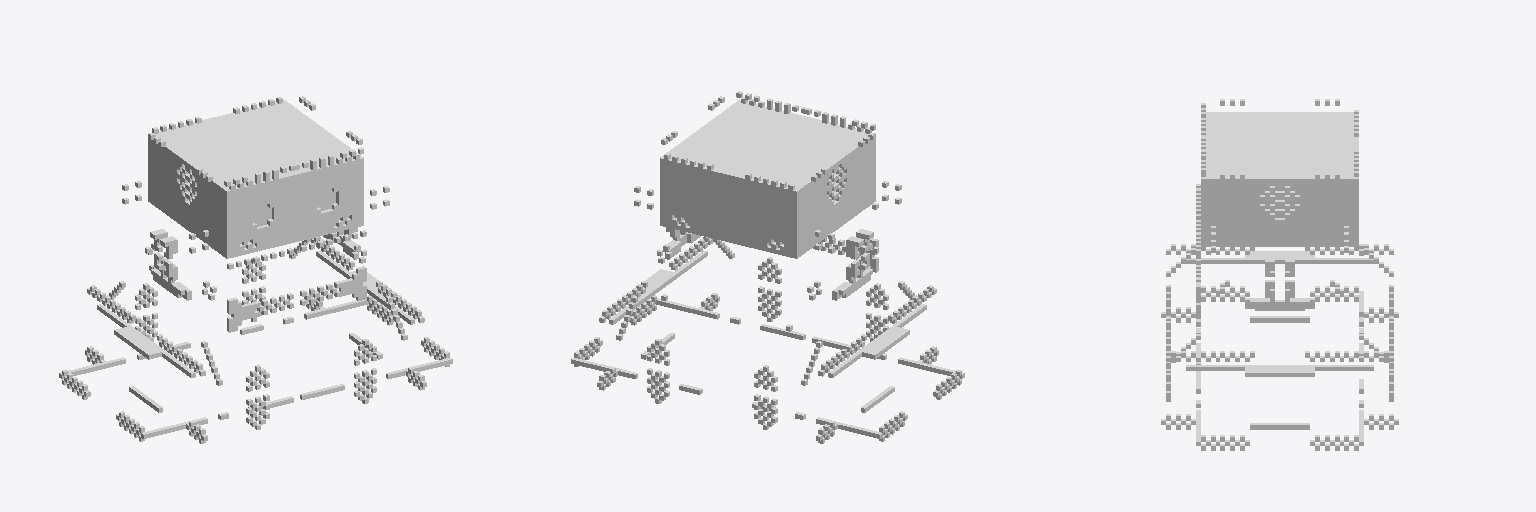
The picture shows the model from 3 angles: view 1: azimuth 30°, elevation 25°; view 2: azimuth 150°, elevation 25°; view 3: azimuth 270°, elevation 25°; orthographic projection.
Visible parts, largest first — view 1: 白色模型; view 2: 白色模型; view 3: 白色模型.
Part boxes in pixels (bbox=[...]): 白色模型: bbox=[59, 96, 452, 443]; 白色模型: bbox=[571, 91, 964, 443]; 白色模型: bbox=[1161, 99, 1398, 450].
Bounding box in the file's own units: 72 × 53 × 48.
1 materials, 1 textured.